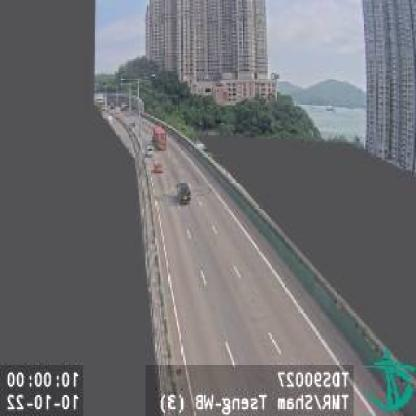Bus: (152, 126, 166, 151)
Car: (175, 181, 190, 203), (151, 159, 161, 172), (144, 144, 152, 155)
